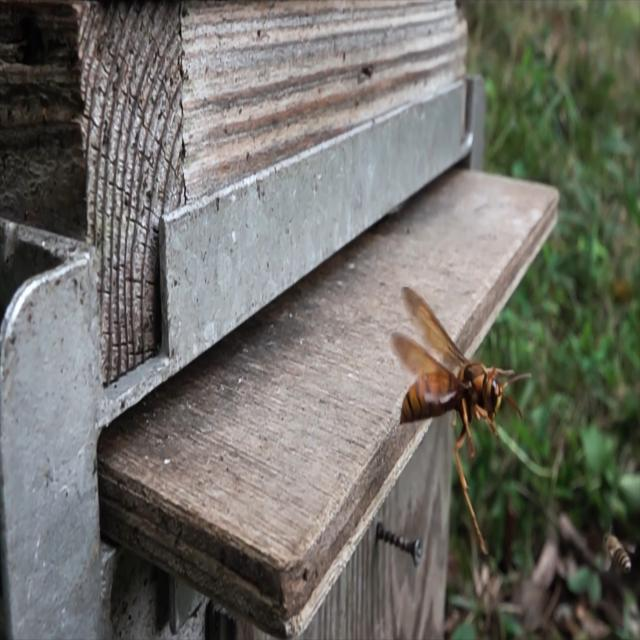Bees: (603, 526, 636, 578)
Hornets: (390, 283, 532, 561)
